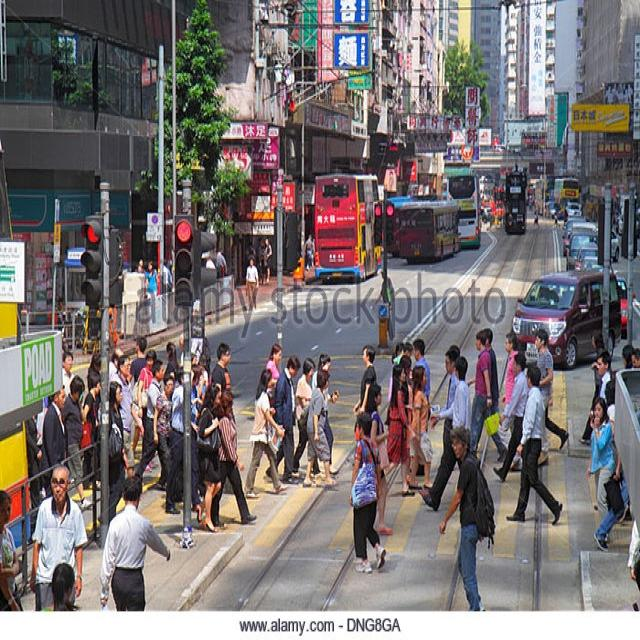body: (328, 160, 639, 245), (91, 470, 174, 638), (436, 420, 498, 627), (27, 460, 90, 638), (502, 361, 564, 525), (419, 355, 472, 514), (417, 347, 463, 512), (210, 388, 259, 528), (242, 364, 290, 501), (348, 408, 387, 574), (465, 325, 509, 464), (466, 328, 509, 465), (263, 351, 303, 485), (362, 379, 395, 537), (163, 365, 197, 517), (492, 351, 531, 482), (300, 365, 341, 488), (592, 461, 639, 568), (193, 378, 224, 534), (60, 374, 94, 514), (534, 328, 571, 452), (384, 362, 417, 498), (134, 358, 168, 487), (582, 392, 618, 513), (0, 484, 26, 639), (406, 362, 437, 491), (310, 351, 341, 478), (578, 328, 609, 447), (184, 372, 209, 514), (106, 378, 129, 527), (212, 236, 286, 282), (497, 331, 523, 461), (290, 356, 317, 479), (110, 354, 136, 479), (133, 348, 158, 474), (410, 337, 432, 478), (42, 384, 68, 498), (80, 370, 103, 492), (152, 372, 175, 491), (127, 333, 148, 454), (24, 416, 43, 546), (350, 342, 379, 417), (163, 329, 211, 374), (385, 335, 413, 412), (86, 351, 103, 474), (374, 264, 397, 342), (49, 561, 83, 613), (132, 256, 174, 295), (592, 348, 615, 407), (264, 341, 284, 408), (210, 341, 233, 394), (245, 255, 260, 312), (61, 348, 77, 398), (143, 259, 161, 301), (300, 232, 317, 276), (619, 332, 639, 367), (108, 346, 126, 381), (448, 338, 460, 351)
